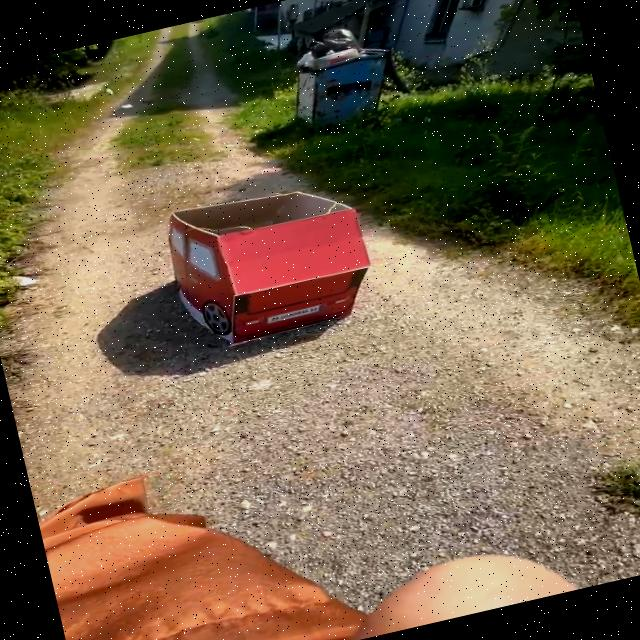red_car: (131, 160, 402, 375)
